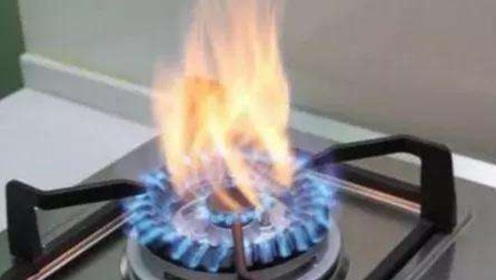fire: (154, 2, 298, 201)
